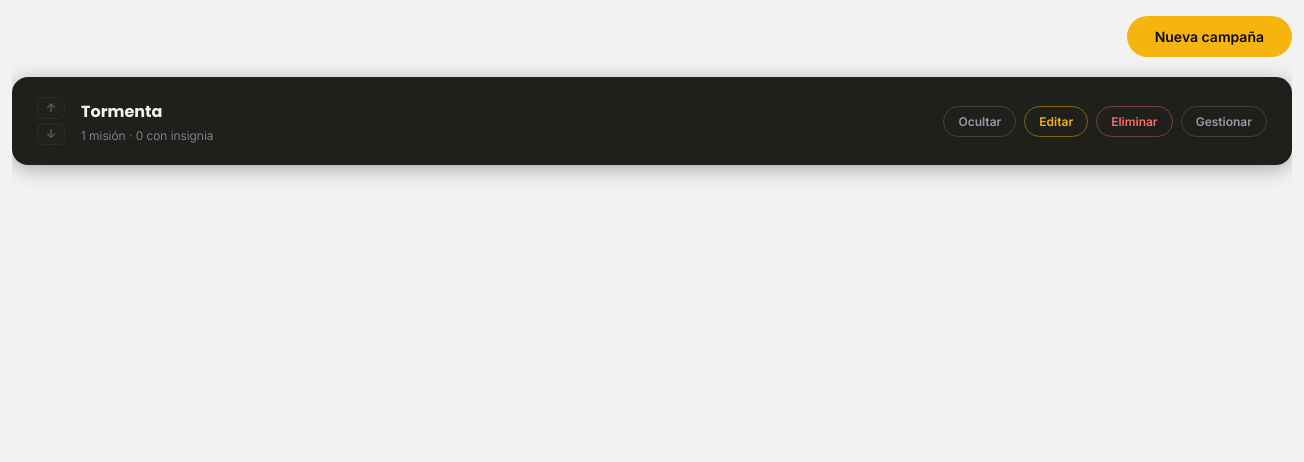
Test: missions › lists existing missions of the expanded campaign
Expected: the heading "Tormenta" is shown, x1=81 y1=100 x2=162 y2=123
Click the button "Gestionar" at [1224, 121], box x1=1181 y1=106 x2=1267 y2=136
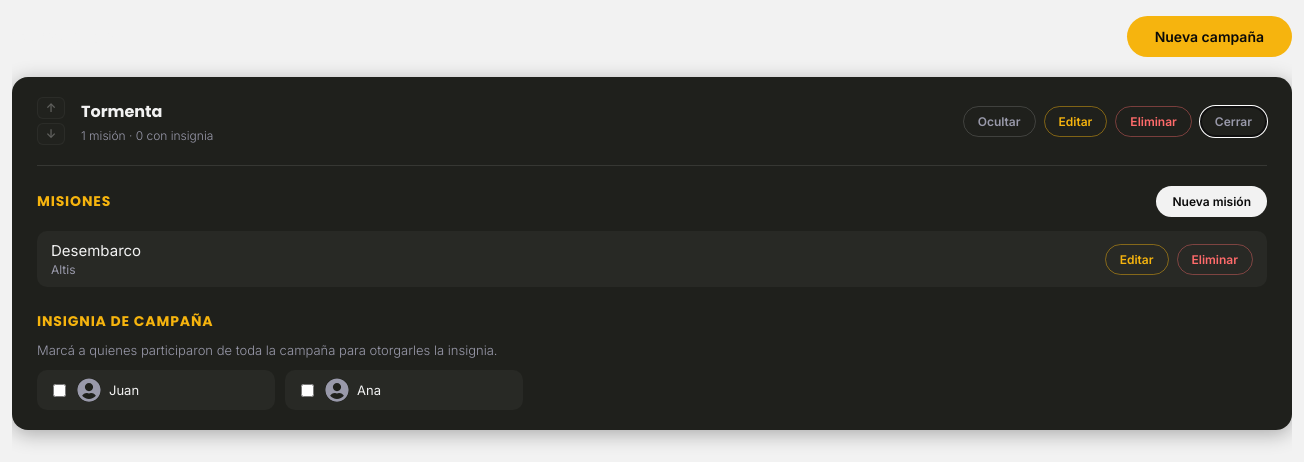
Expected: the text "Desembarco" is shown, x1=51 y1=241 x2=141 y2=260
Expected: the text "Altis" is shown, x1=51 y1=262 x2=76 y2=277
